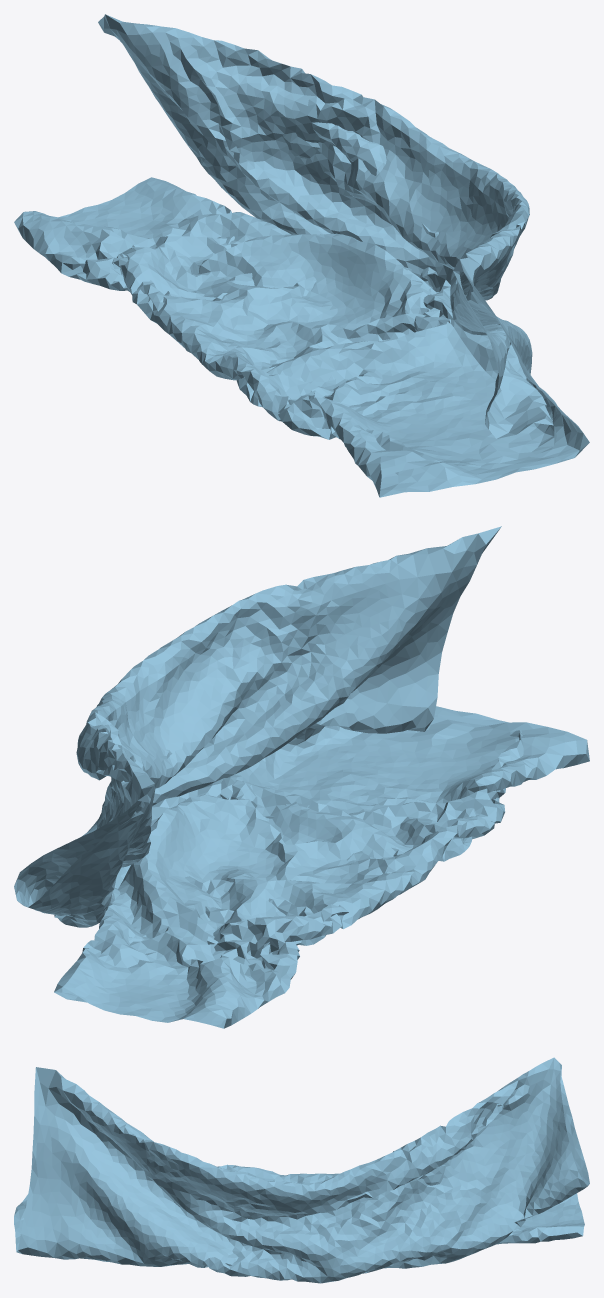
File: frame_16.glb
The picture shows the model from 3 angles, top to bottom: view 1: azimuth 30°, elevation 25°; view 2: azimuth 150°, elevation 25°; view 3: azimuth 270°, elevation 25°; orthographic projection. The views are drawn at different scales.
Visible parts, largest first — view 1: frame_16.obj; view 2: frame_16.obj; view 3: frame_16.obj.
Boxes of the visible parts, x1,y1,x2,y2 form: frame_16.obj: (14,14,589,497); frame_16.obj: (14,526,589,1028); frame_16.obj: (14,1057,589,1283).
Bounding box in the file's own units: 0.7713 × 0.5398 × 1.75.
